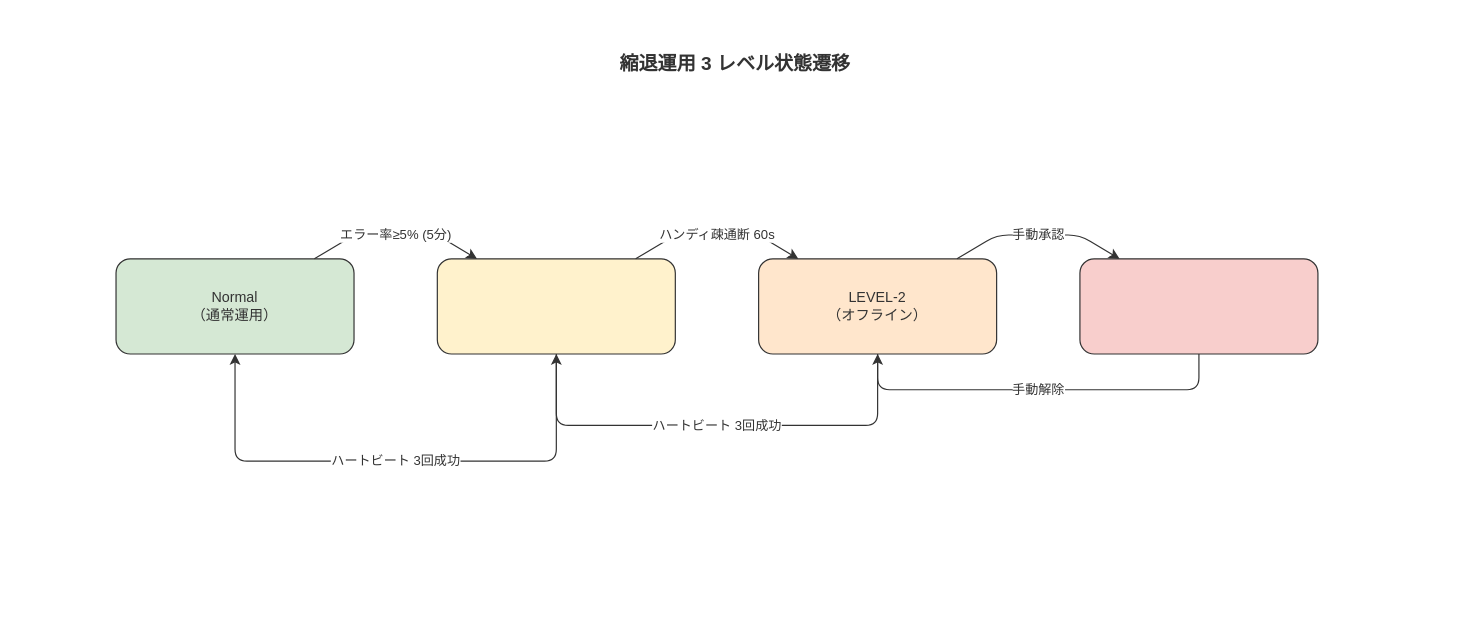
Some shapes in this 1468 by 635 pixel diagram are drawn without their labels. The centre of each missing label's shape, as x and y in pixels:
LEVEL-1 （API 縮退）: the point at 555,306
LEVEL-3 （完全停止）: the point at 1198,306
